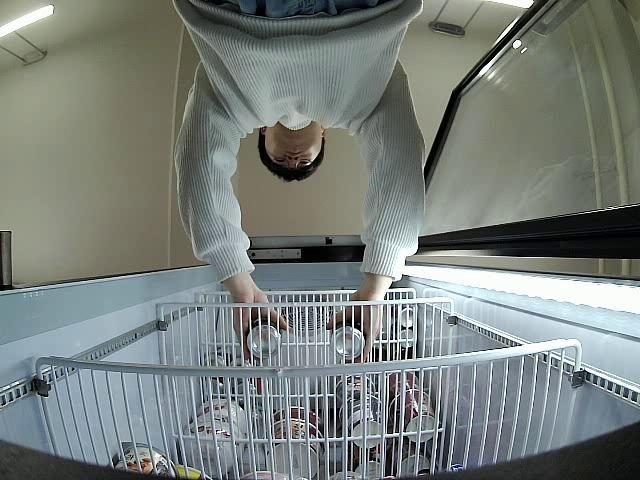12_chilsungCider: (245, 320, 284, 360), (329, 322, 368, 358)
